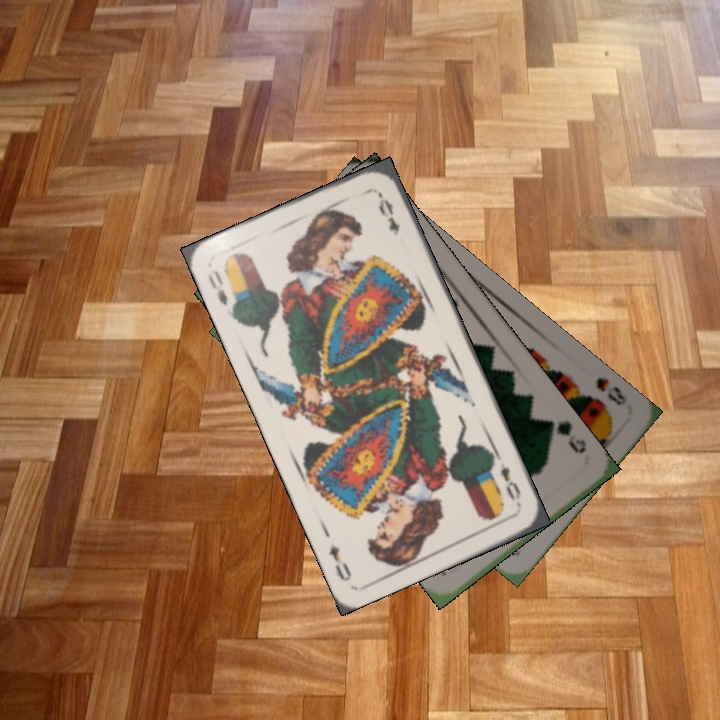EO: (496, 459, 524, 509), (203, 266, 231, 308)
G9: (545, 416, 590, 457)
S8: (591, 373, 630, 408)
